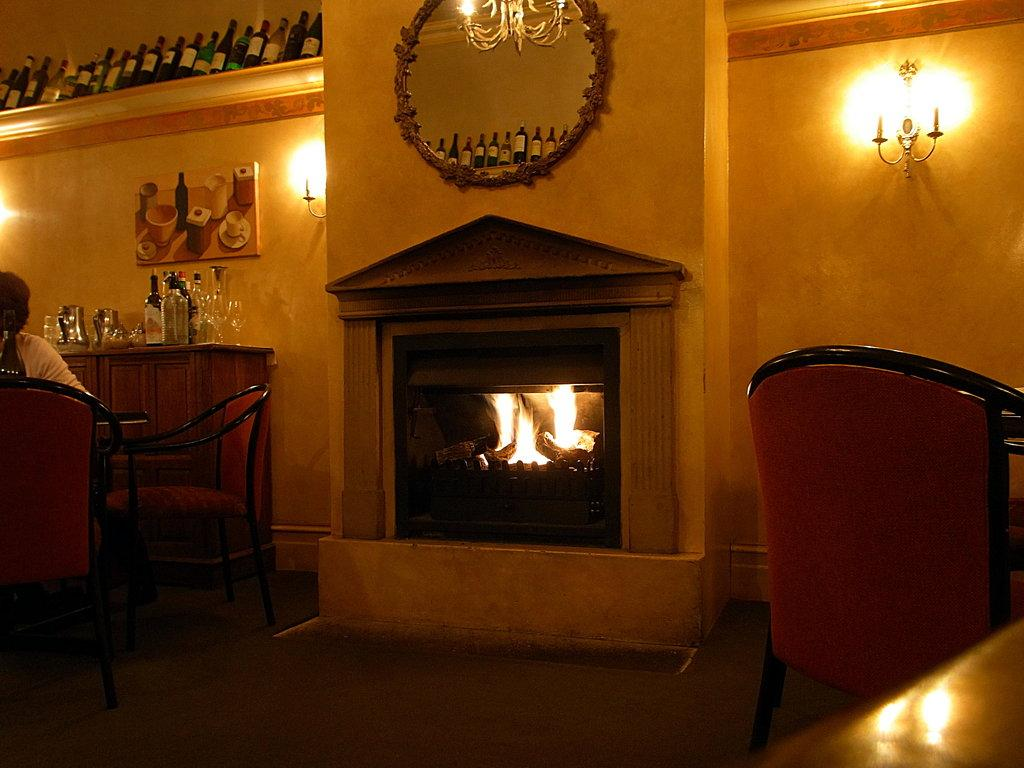Fire: (477, 387, 593, 473)
